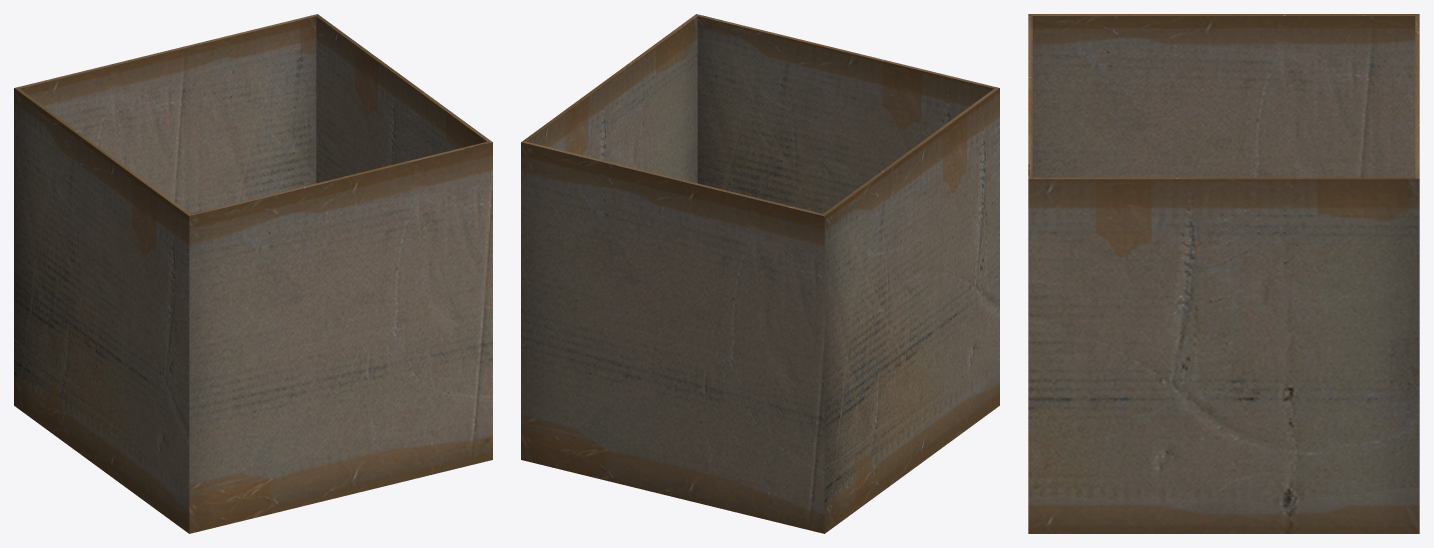
The model's file is CardboardBoxOpen3_SM.fbx.
3 renders of one model, left to right at view 1: azimuth 30°, elevation 25°; view 2: azimuth 150°, elevation 25°; view 3: azimuth 270°, elevation 25°, orthographic. The views are drawn at different scales.
Parts seen in each view (by area): view 1: Box013; view 2: Box013; view 3: Box013.
Boxes of the visible parts, bbox=[...] form: Box013: bbox=[14, 14, 492, 533]; Box013: bbox=[521, 14, 999, 533]; Box013: bbox=[1028, 14, 1419, 533].
Size of the model in its own units: 69.23 by 69.23 by 69.23.
